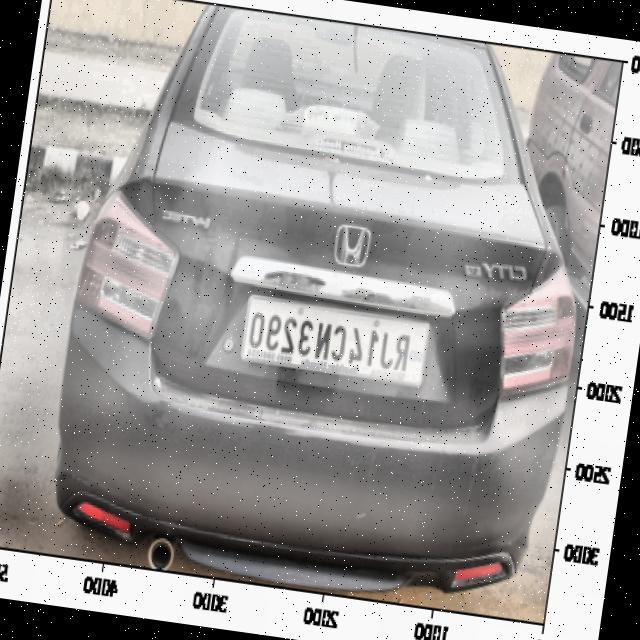license_plate: (242, 308, 416, 385)
